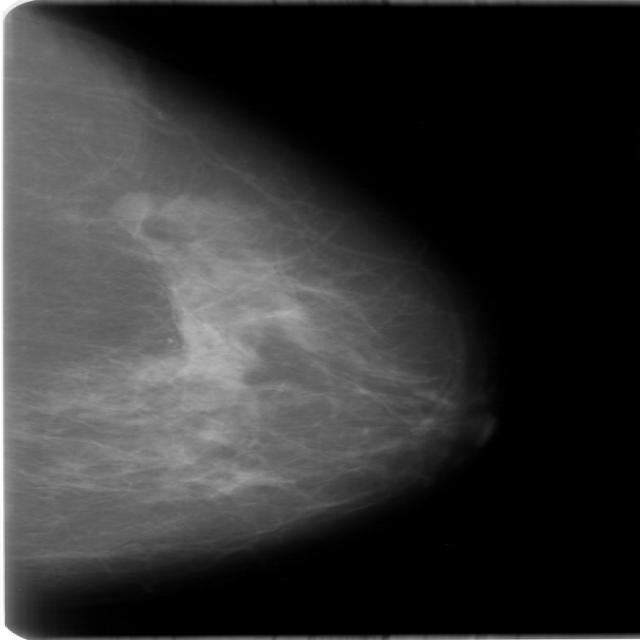tumour: (109, 190, 155, 223)
